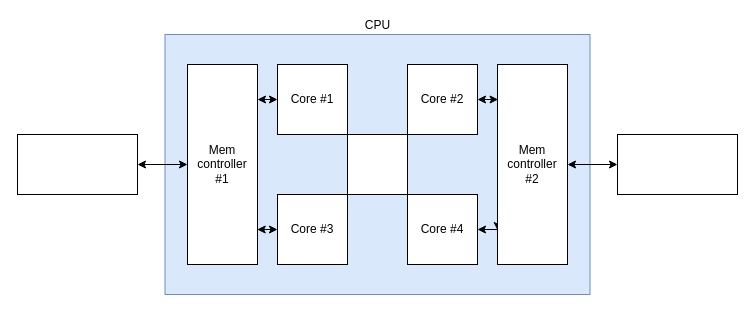
This 755x312 diagram has some shape labels left out. Here are the shapes that lost their labels. From the top down, the box of each, then its label:
(16, 134, 138, 194): RAM #1
(346, 134, 408, 194): L3 cache
(616, 134, 738, 194): RAM #2
